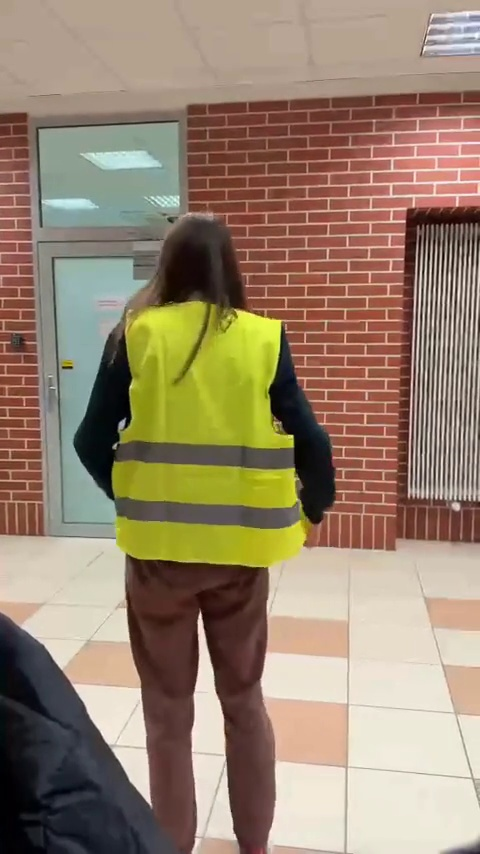vest: (77, 208, 352, 854)
